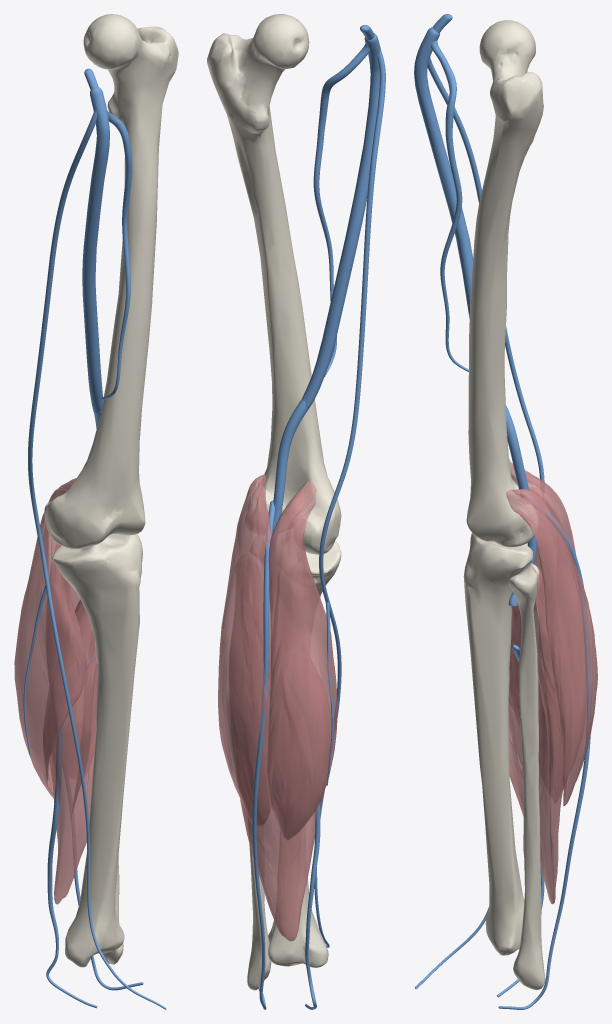
The model's file is left-leg-reference.glb.
3 renders of one model, left to right at view 1: azimuth 30°, elevation 25°; view 2: azimuth 150°, elevation 25°; view 3: azimuth 270°, elevation 25°, orthographic.
Visible parts, largest first — view 1: BP9042_left_femur, BP9202_left_tibia, BP9217_medial_head_of_left_gastrocnemius, BP8819_left_soleus, BP5871_left_great_saphenous_vein, BP5880_left_femoral_vein, BP5874_left_deep_femoral_vein, BP5847_left_posterior_tibial_vein, BP7939_lateral_head_of_left_gastrocnemius, BP8251_left_fibula; view 2: BP9042_left_femur, BP9217_medial_head_of_left_gastrocnemius, BP7939_lateral_head_of_left_gastrocnemius, BP8819_left_soleus, BP5880_left_femoral_vein, BP5871_left_great_saphenous_vein, BP9202_left_tibia, BP5853_left_small_saphenous_vein, BP5874_left_deep_femoral_vein, BP8251_left_fibula, BP5862_left_popliteal_vein, BP5847_left_posterior_tibial_vein; view 3: BP9042_left_femur, BP9202_left_tibia, BP7939_lateral_head_of_left_gastrocnemius, BP8819_left_soleus, BP8251_left_fibula, BP9217_medial_head_of_left_gastrocnemius, BP5880_left_femoral_vein, BP5853_left_small_saphenous_vein, BP5874_left_deep_femoral_vein, BP5871_left_great_saphenous_vein, BP5862_left_popliteal_vein.
Boxes of the visible parts, x1,y1,x2,y2 form: BP9042_left_femur: (44, 14, 178, 549); BP9202_left_tibia: (52, 533, 142, 967); BP9217_medial_head_of_left_gastrocnemius: (14, 478, 87, 797); BP8819_left_soleus: (46, 599, 98, 904); BP5871_left_great_saphenous_vein: (23, 110, 166, 1009); BP5880_left_femoral_vein: (82, 87, 109, 414); BP5874_left_deep_femoral_vein: (84, 68, 132, 399); BP5847_left_posterior_tibial_vein: (46, 656, 97, 1008); BP7939_lateral_head_of_left_gastrocnemius: (46, 566, 91, 679); BP8251_left_fibula: (102, 856, 123, 964); BP9042_left_femur: (207, 14, 341, 554); BP9217_medial_head_of_left_gastrocnemius: (267, 480, 337, 840); BP7939_lateral_head_of_left_gastrocnemius: (218, 474, 277, 826); BP8819_left_soleus: (229, 597, 331, 941); BP5880_left_femoral_vein: (302, 33, 380, 408); BP5871_left_great_saphenous_vein: (314, 50, 385, 947); BP9202_left_tibia: (268, 540, 341, 967); BP5853_left_small_saphenous_vein: (252, 500, 275, 1009); BP5874_left_deep_femoral_vein: (313, 25, 374, 376); BP8251_left_fibula: (247, 843, 271, 990); BP5862_left_popliteal_vein: (272, 398, 312, 533); BP5847_left_posterior_tibial_vein: (305, 803, 320, 1009); BP9042_left_femur: (466, 20, 543, 547); BP9202_left_tibia: (463, 533, 533, 955); BP7939_lateral_head_of_left_gastrocnemius: (506, 489, 597, 806); BP8819_left_soleus: (508, 564, 564, 904); BP8251_left_fibula: (508, 563, 545, 990); BP9217_medial_head_of_left_gastrocnemius: (509, 462, 585, 758); BP5880_left_femoral_vein: (414, 27, 472, 318); BP5853_left_small_saphenous_vein: (498, 509, 590, 1009); BP5874_left_deep_femoral_vein: (430, 14, 468, 371); BP5871_left_great_saphenous_vein: (415, 57, 544, 988); BP5862_left_popliteal_vein: (505, 405, 536, 606).
Size of the model in its own units: 0.1368 by 0.8799 by 0.149.
